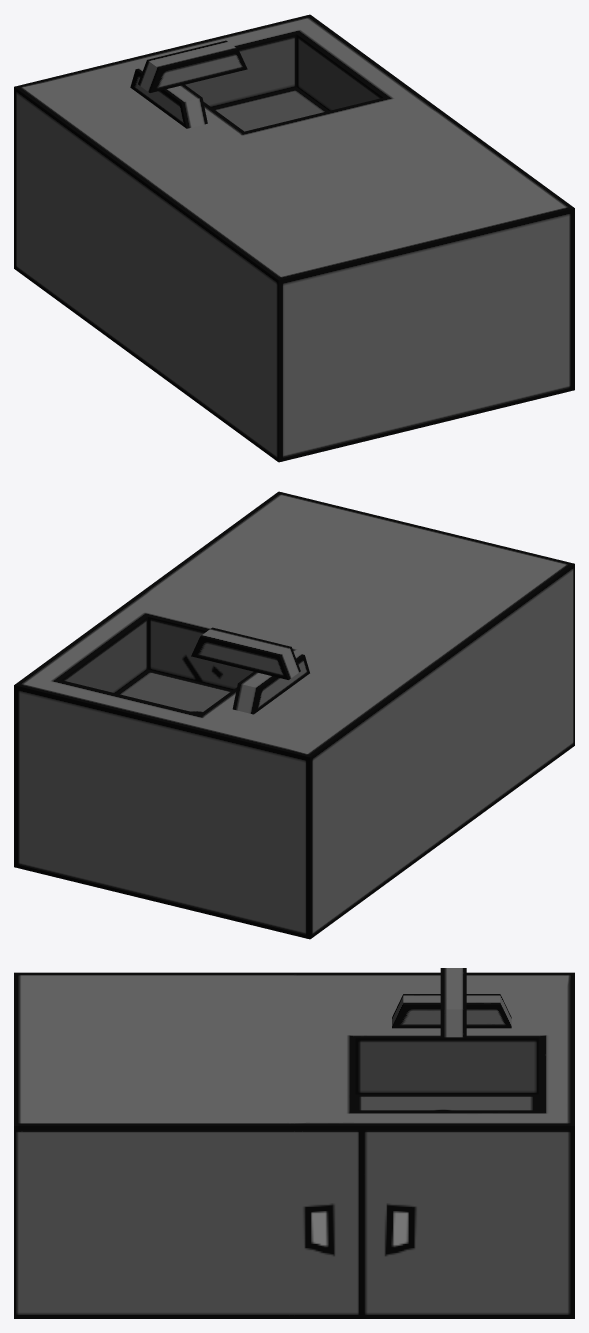
The model's file is Sink.fbx.
3 renders of one model, top to bottom at view 1: azimuth 30°, elevation 25°; view 2: azimuth 150°, elevation 25°; view 3: azimuth 270°, elevation 25°, orthographic. The views are drawn at different scales.
Parts seen in each view (by area): view 1: Sink; view 2: Sink; view 3: Sink.
Boxes of the visible parts, x1,y1,x2,y2 form: Sink: (14, 14, 574, 462); Sink: (14, 491, 574, 939); Sink: (14, 968, 574, 1318).
Size of the model in its own units: 200 by 146 by 309.
